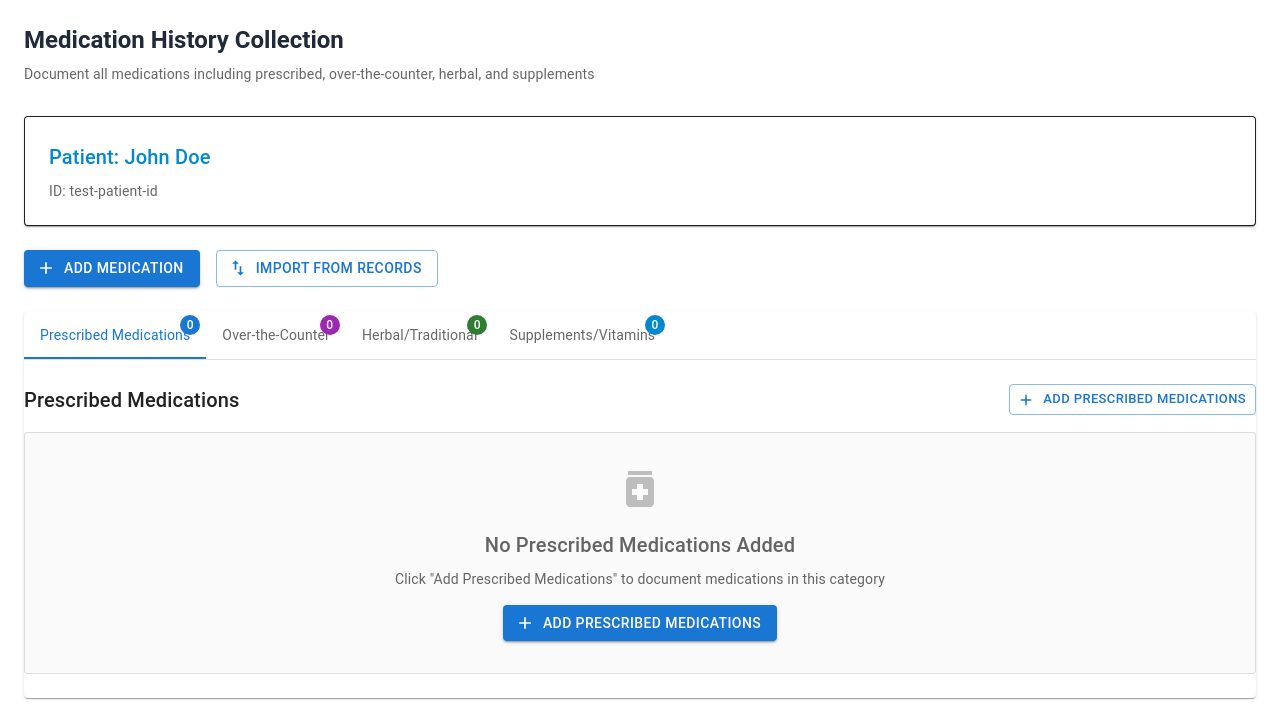
Test: MedicationHistory Component › opens medication modal when add button is clicked
The image size is (1280, 720).
Click the button "Add Medication". click: point(112, 268)
box: [24, 250, 200, 286]
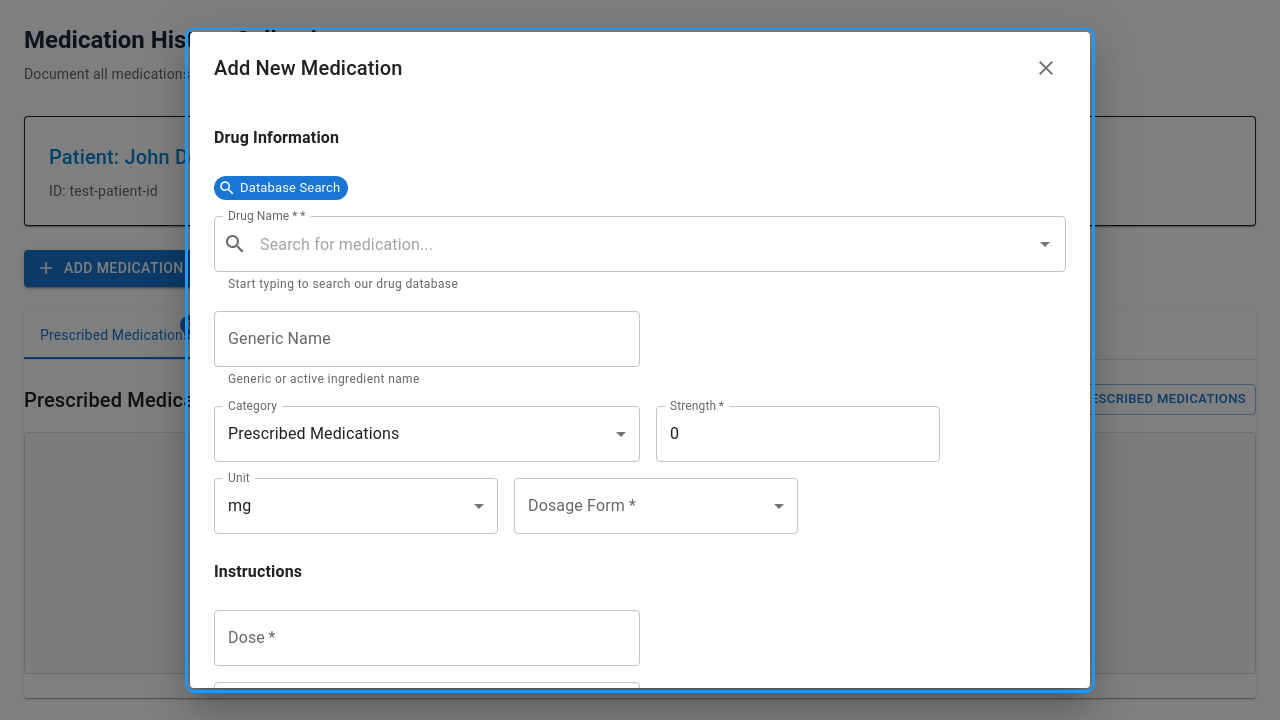
expect the heading "Add New Medication" is shown: met, box [214, 52, 403, 84]
